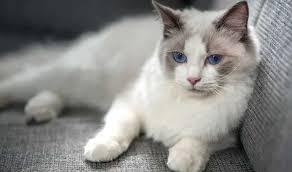ragdoll: (151, 1, 255, 108)
